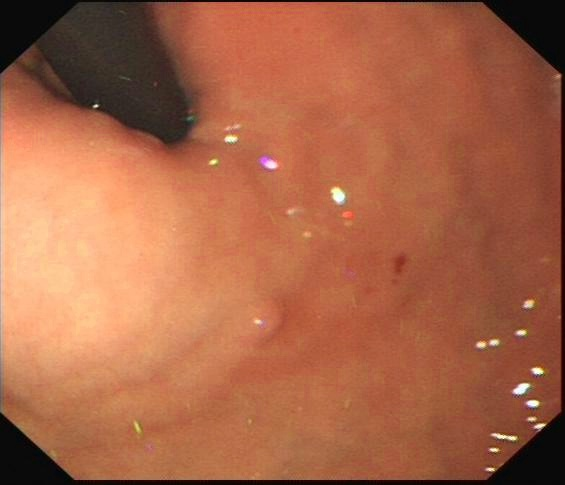Polyp: (221, 277, 311, 357)
